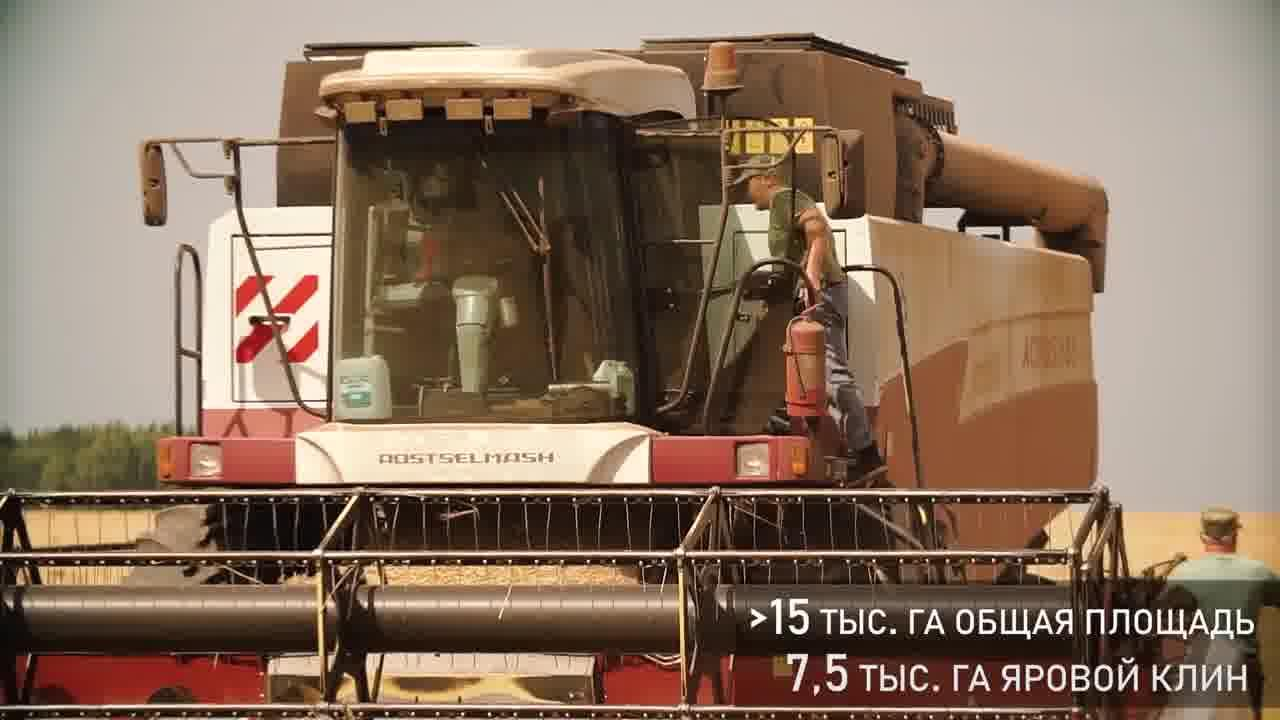combine harvester: (3, 33, 1159, 720)
